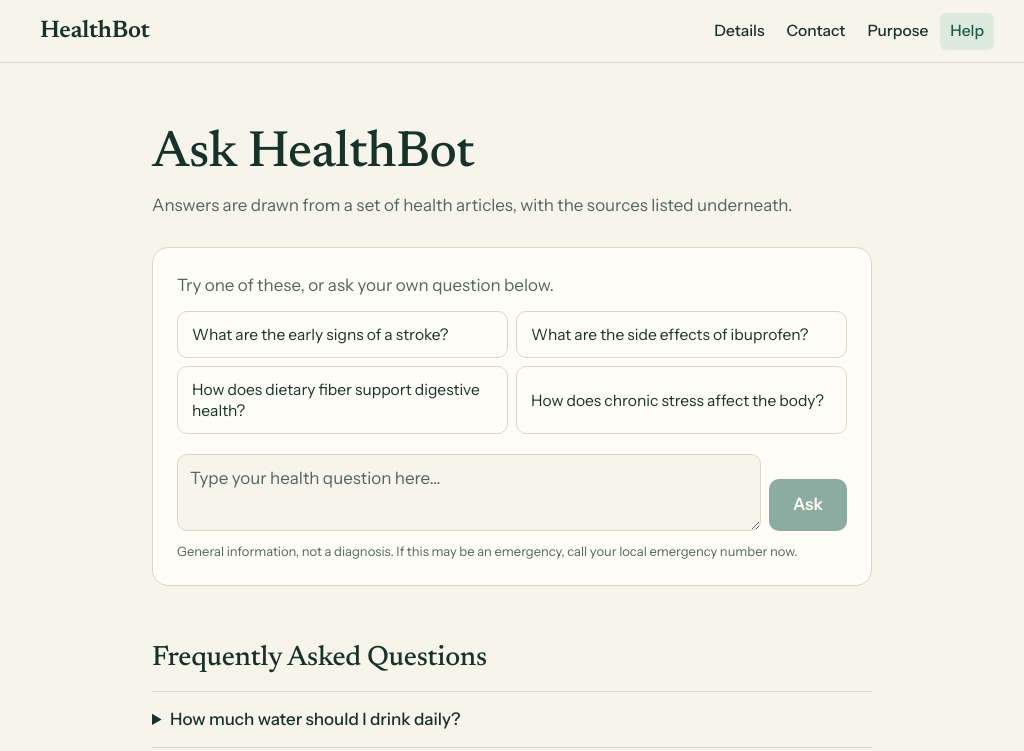
Scenario: help page shows the answer with linked sources
Type "What are the side effects of ibuprofen?" into the text box labelled "Type your health question here…" at (469, 492), box [177,454,761,531]
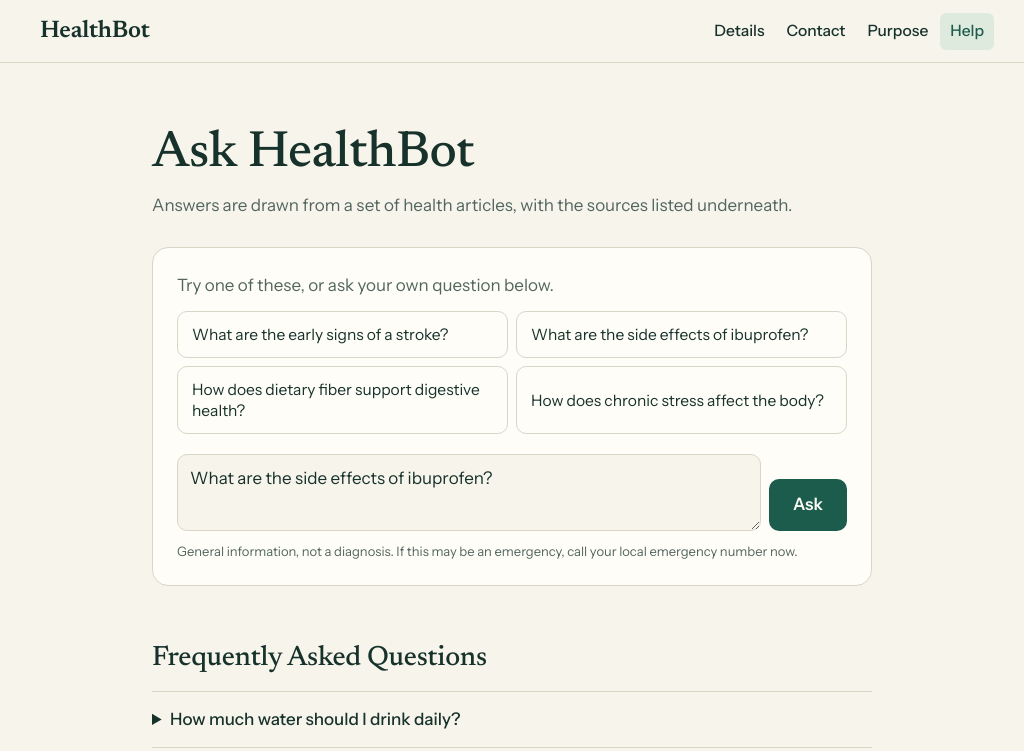
Click the button "Ask" at (808, 505), box [769,479,847,531]
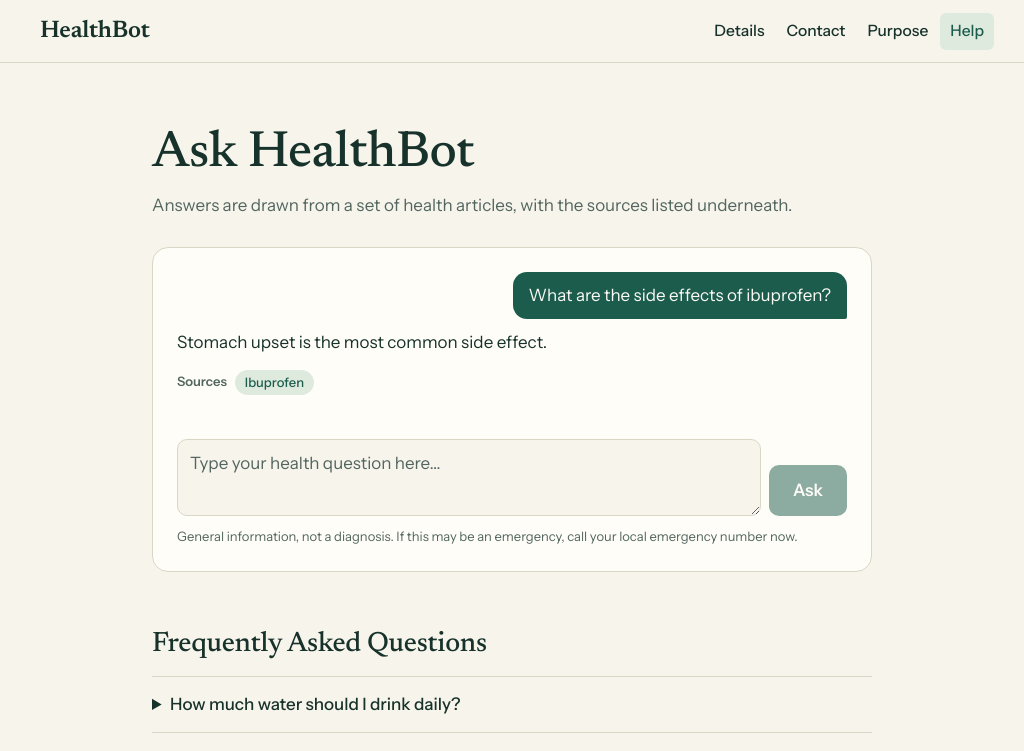
Result: the text "Stomach upset is the most common side effect." is shown at [177,329,547,356]
